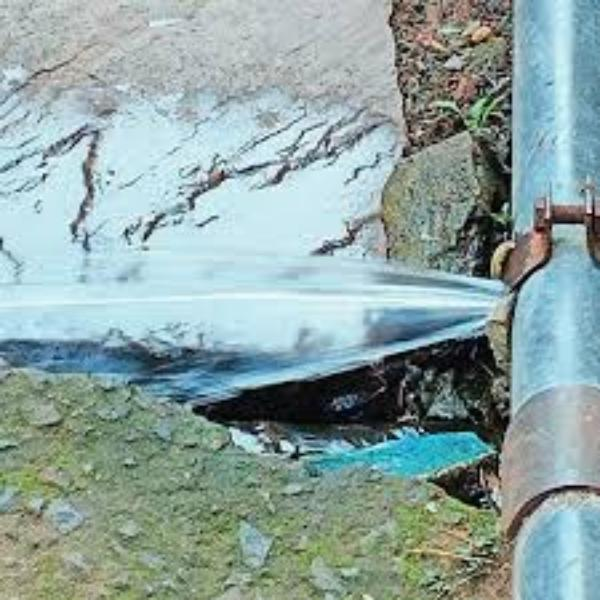water: (354, 156, 592, 462)
